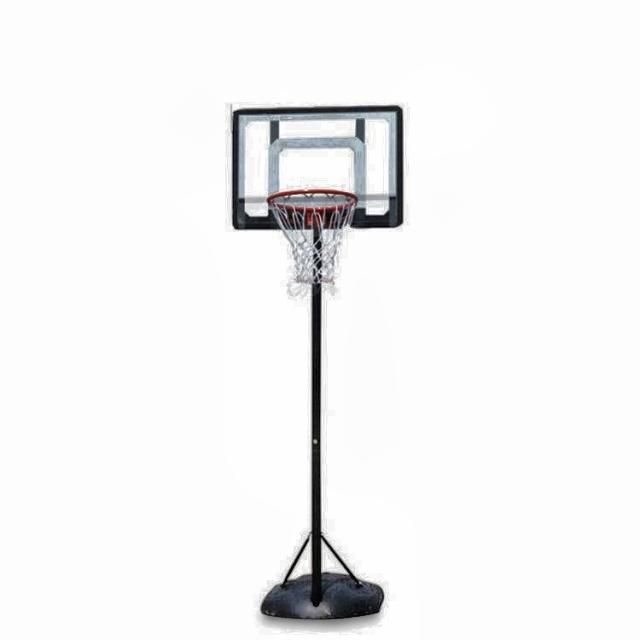rim: (266, 187, 358, 290)
